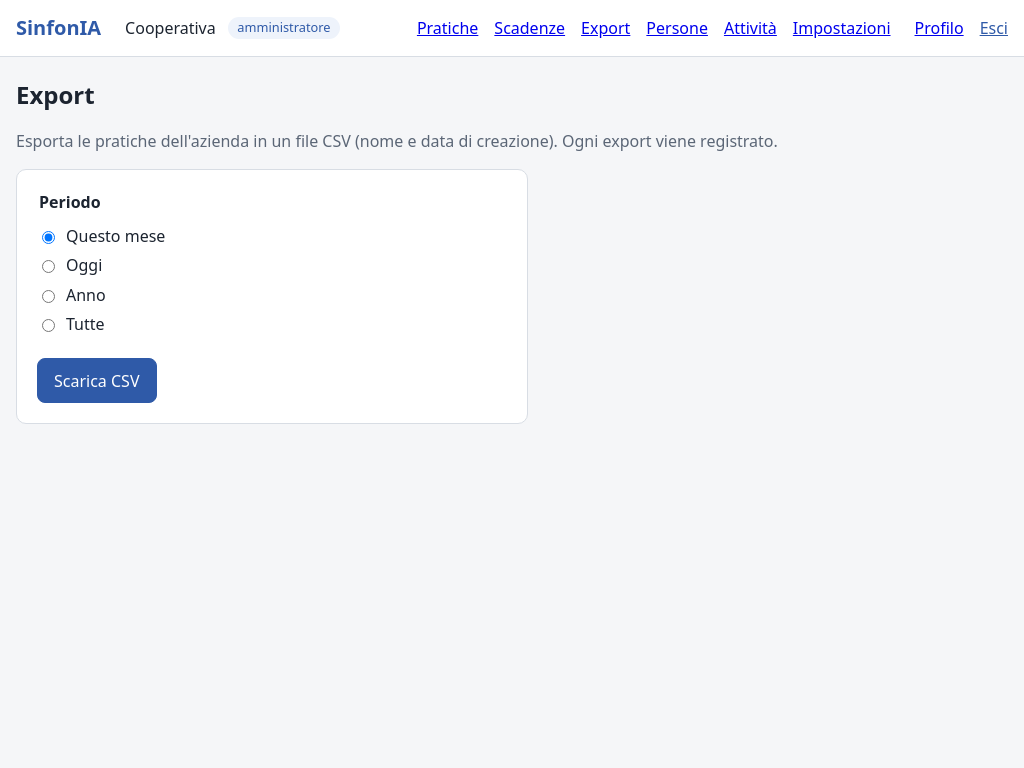
Test case: export (FE3) › exports the chosen year as a CSV file
Click the radio button labelled "Anno" at (48, 296), box [42, 290, 55, 303]
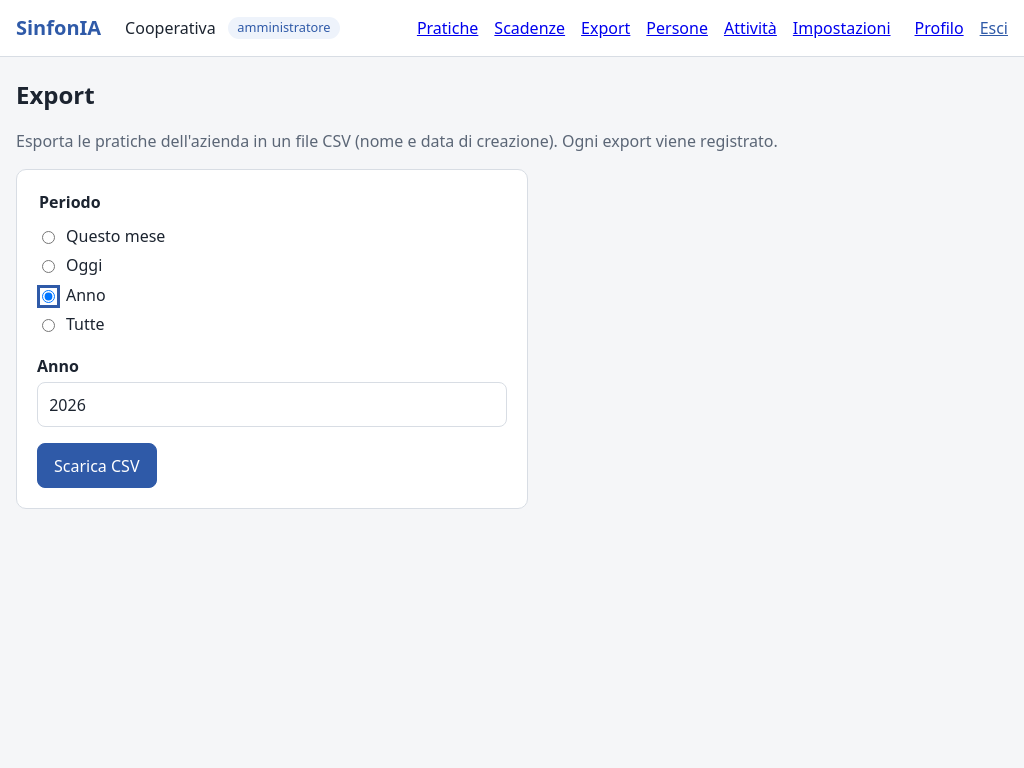
Replace the text in the number field labelled "Anno" with "2025" at (272, 405), box [37, 382, 507, 427]
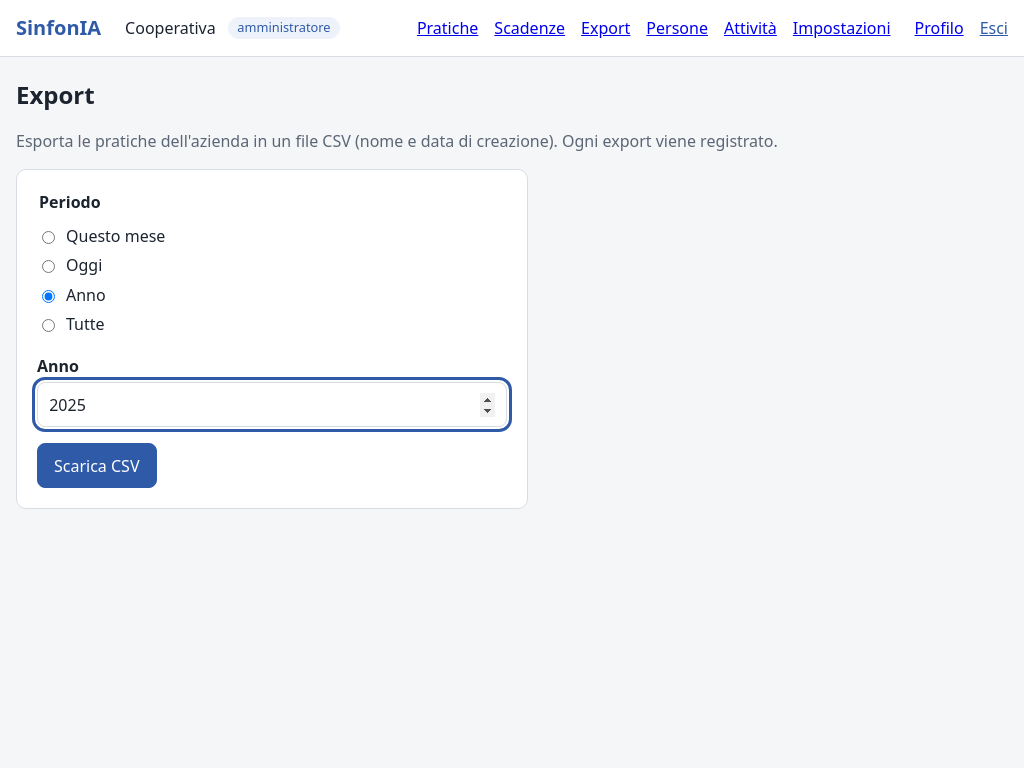
Click the button "Scarica CSV" at (97, 466), box [37, 443, 156, 488]
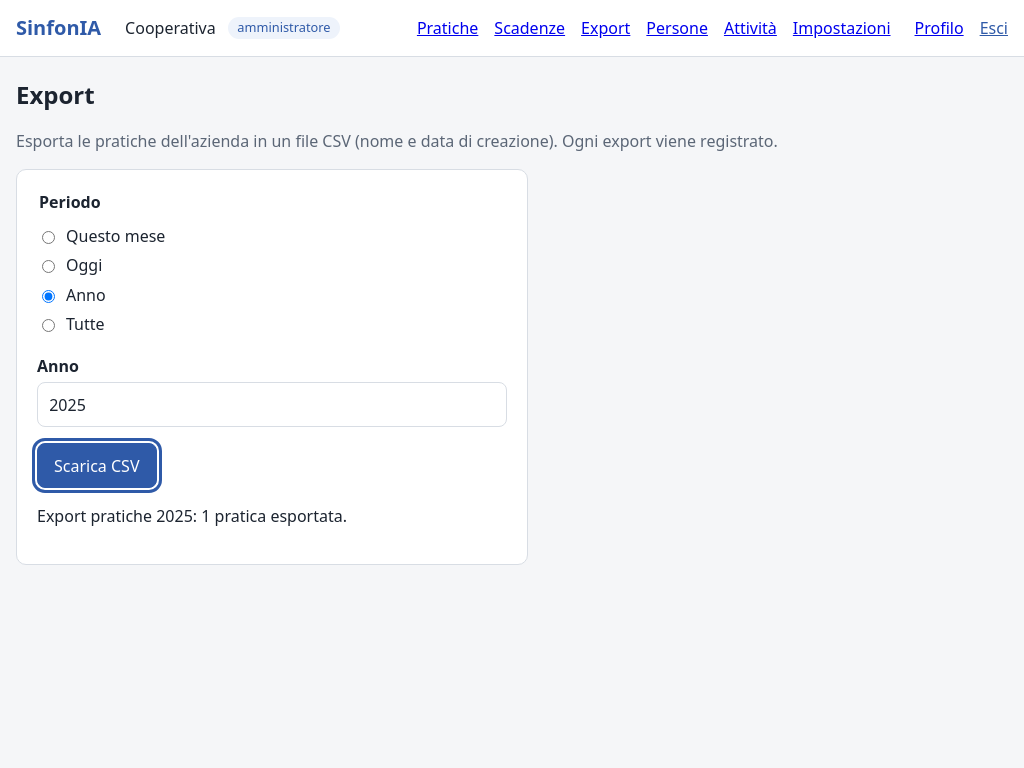
Expected: the text "Export pratiche 2025: 1 pratica esportata." is shown, [37, 505, 347, 527]
